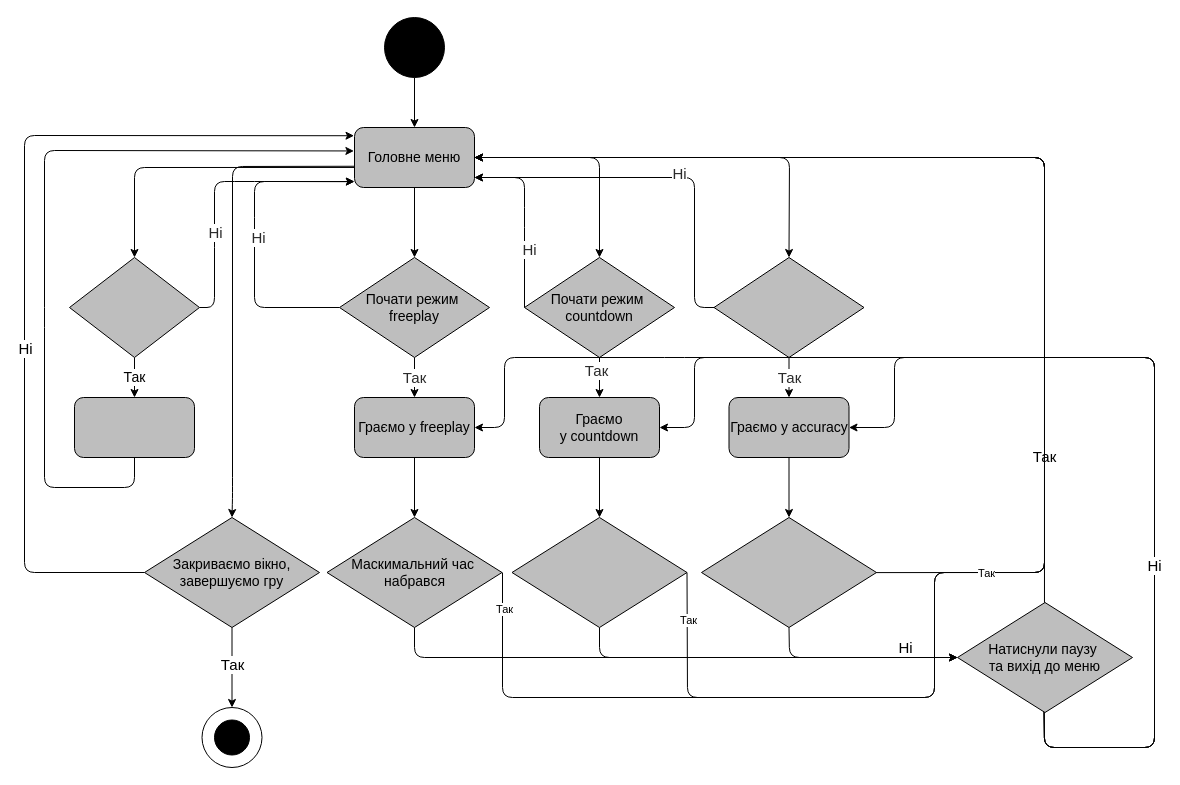
Some shapes in this 1180 by 785 pixel diagram are drawn without their labels. The centre of each missing label's shape, as x and y in pixels:
"Доступний час закінчився" goes at pixel 599 572.
"Набої вичерпалися" goes at pixel 788 572.
"Оновити показники" goes at pixel 134 307.
"Оновлюємо показники" goes at pixel 134 427.
"Почати режим accuracy" goes at pixel 788 307.
